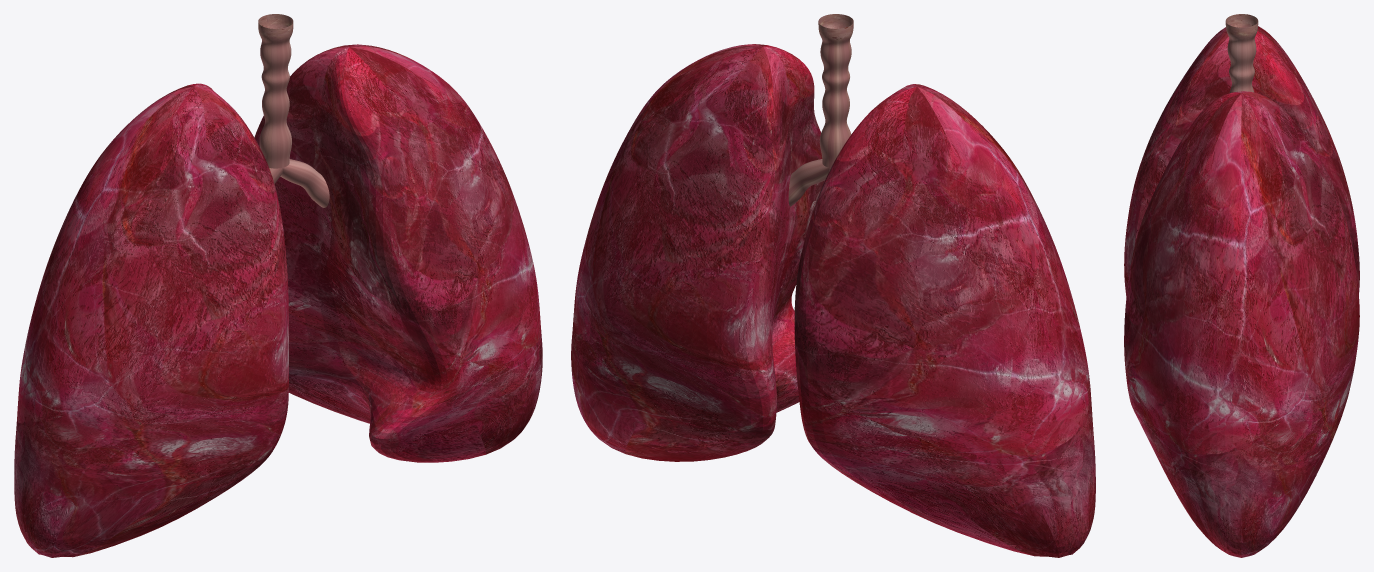
The model's file is lungs.glb.
The picture shows the model from 3 angles, left to right: view 1: azimuth 30°, elevation 25°; view 2: azimuth 150°, elevation 25°; view 3: azimuth 270°, elevation 25°; orthographic projection. The views are drawn at different scales.
Parts seen in each view (by area): view 1: Cylinder; view 2: Cylinder; view 3: Cylinder.
Boxes of the visible parts, <box> form: Cylinder: <box>14,14,542,557</box>; Cylinder: <box>571,14,1095,557</box>; Cylinder: <box>1124,14,1359,557</box>.
Size of the model in its own units: 7.45 by 6.72 by 3.24.
3 materials, 3 textured.
